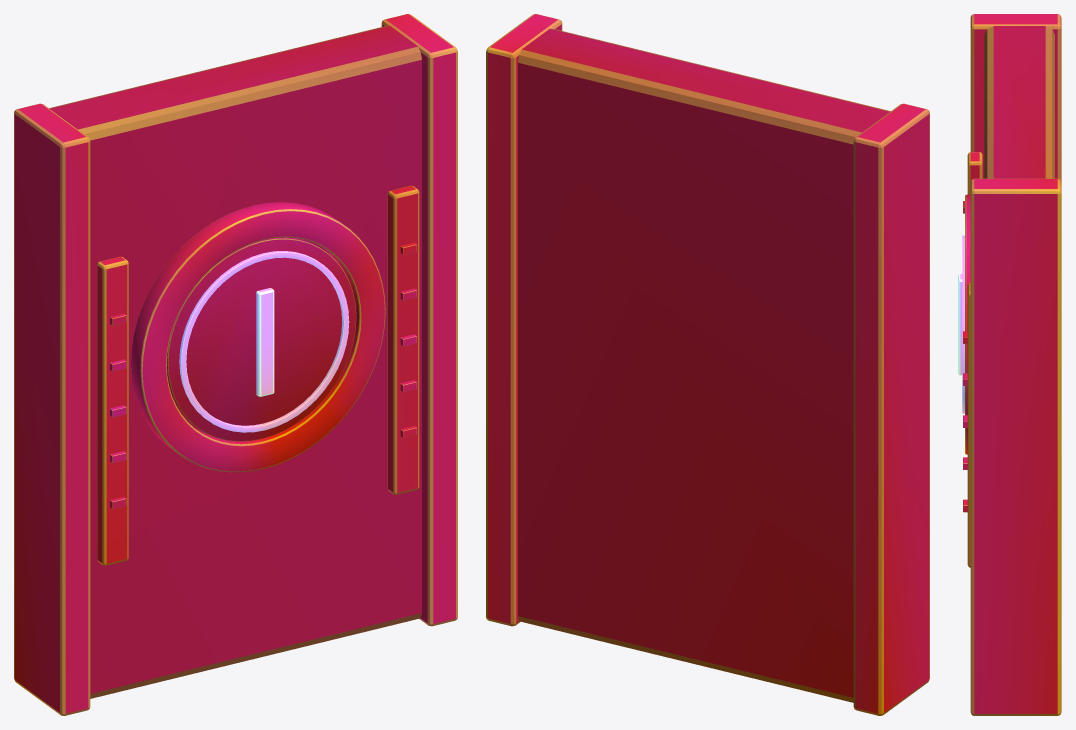
The model's file is SM_TechPanel.fbx.
The picture shows the model from 3 angles, left to right: view 1: azimuth 30°, elevation 25°; view 2: azimuth 150°, elevation 25°; view 3: azimuth 270°, elevation 25°; orthographic projection. The views are drawn at different scales.
Visible parts, largest first — view 1: SM_TechPanel; view 2: SM_TechPanel; view 3: SM_TechPanel.
Boxes of the visible parts, x1,y1,x2,y2 form: SM_TechPanel: (14,14,457,715); SM_TechPanel: (486,14,929,715); SM_TechPanel: (958,14,1061,715).
Size of what is drawn, in the model's own units: 55.5 by 227 by 313.
